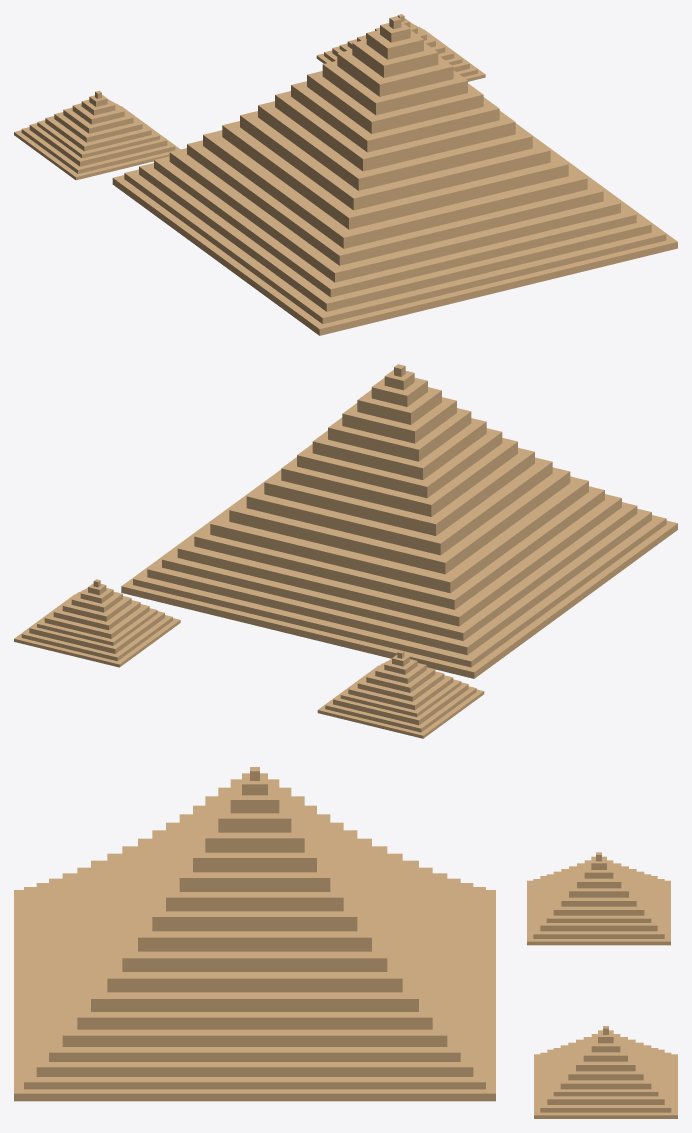
File: egypt.obj
The picture shows the model from 3 angles, top to bottom: view 1: azimuth 30°, elevation 25°; view 2: azimuth 150°, elevation 25°; view 3: azimuth 270°, elevation 25°; orthographic projection. The views are drawn at different scales.
Visible parts, largest first — view 1: Mesh2 Model, Mesh4 Model, Mesh3 Model; view 2: Mesh2 Model, Mesh4 Model, Mesh3 Model; view 3: Mesh2 Model, Mesh4 Model, Mesh3 Model.
Part boxes in pixels (bbox=[...]): Mesh2 Model: bbox=[112, 16, 677, 335]; Mesh4 Model: bbox=[14, 90, 180, 180]; Mesh3 Model: bbox=[316, 14, 485, 81]; Mesh2 Model: bbox=[121, 364, 677, 678]; Mesh4 Model: bbox=[317, 650, 484, 738]; Mesh3 Model: bbox=[14, 579, 180, 667]; Mesh2 Model: bbox=[14, 767, 495, 1101]; Mesh4 Model: bbox=[527, 852, 670, 945]; Mesh3 Model: bbox=[534, 1026, 677, 1118].
Size of the model in its own units: 61.78 by 28.3 by 73.93.
